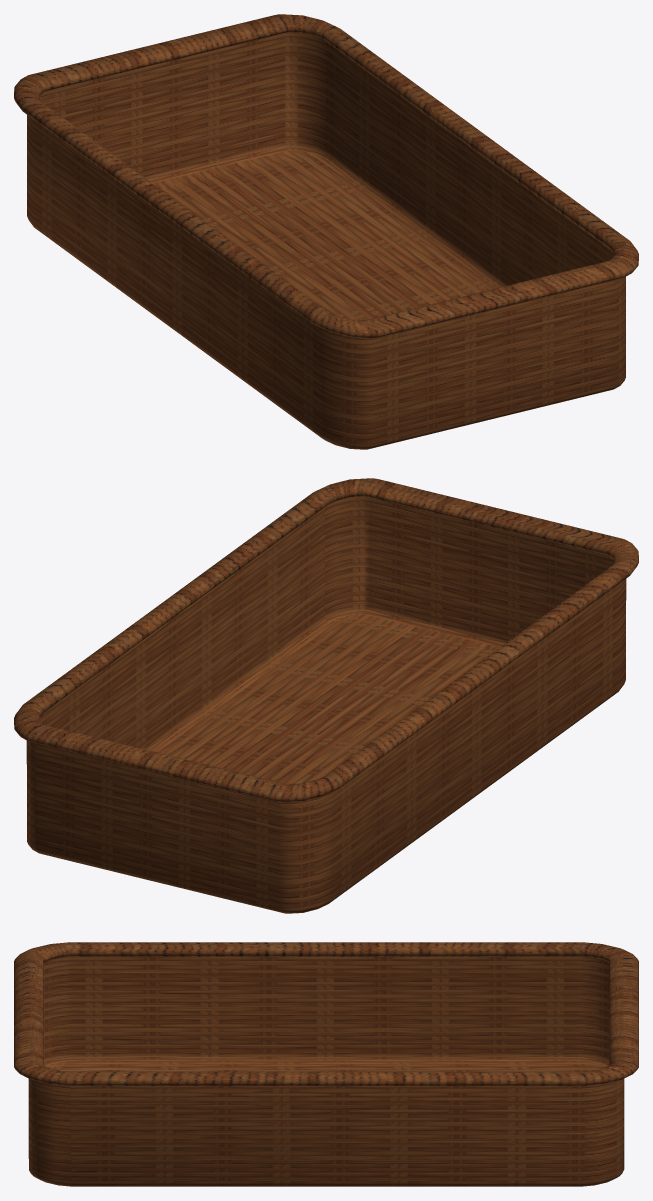
Rendered from panier_osier.fbx.
3 views of the same model, one above another, from view 1: azimuth 30°, elevation 25°; view 2: azimuth 150°, elevation 25°; view 3: azimuth 270°, elevation 25° (orthographic). The views are drawn at different scales.
Visible parts, largest first — view 1: Panier, Contour; view 2: Panier, Contour; view 3: Panier, Contour.
Boxes of the visible parts, left/top/right/bottom form: Panier: left=27, top=32, right=625, bottom=449; Contour: left=14, top=14, right=638, bottom=338; Panier: left=26, top=496, right=626, bottom=913; Contour: left=14, top=478, right=638, bottom=802; Panier: left=28, top=956, right=624, bottom=1186; Contour: left=14, top=942, right=638, bottom=1085.
Bounding box in the file's own units: 174 × 69.24 × 332.
2 materials, 2 textured.
